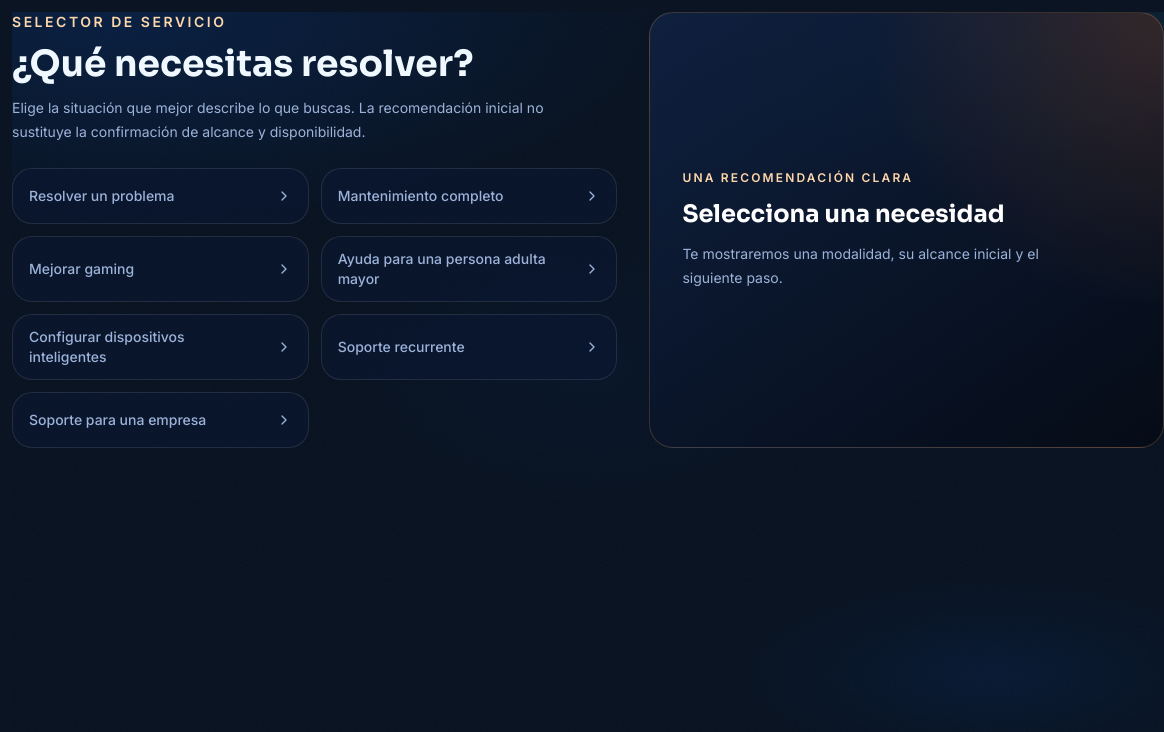
Scenario: Nova Assist service guidance › waits for device count before recommending a recurring plan
The width and height of the screenshot is (1164, 732).
Click the button "Soporte recurrente" at (401, 346), box [321, 314, 617, 380]
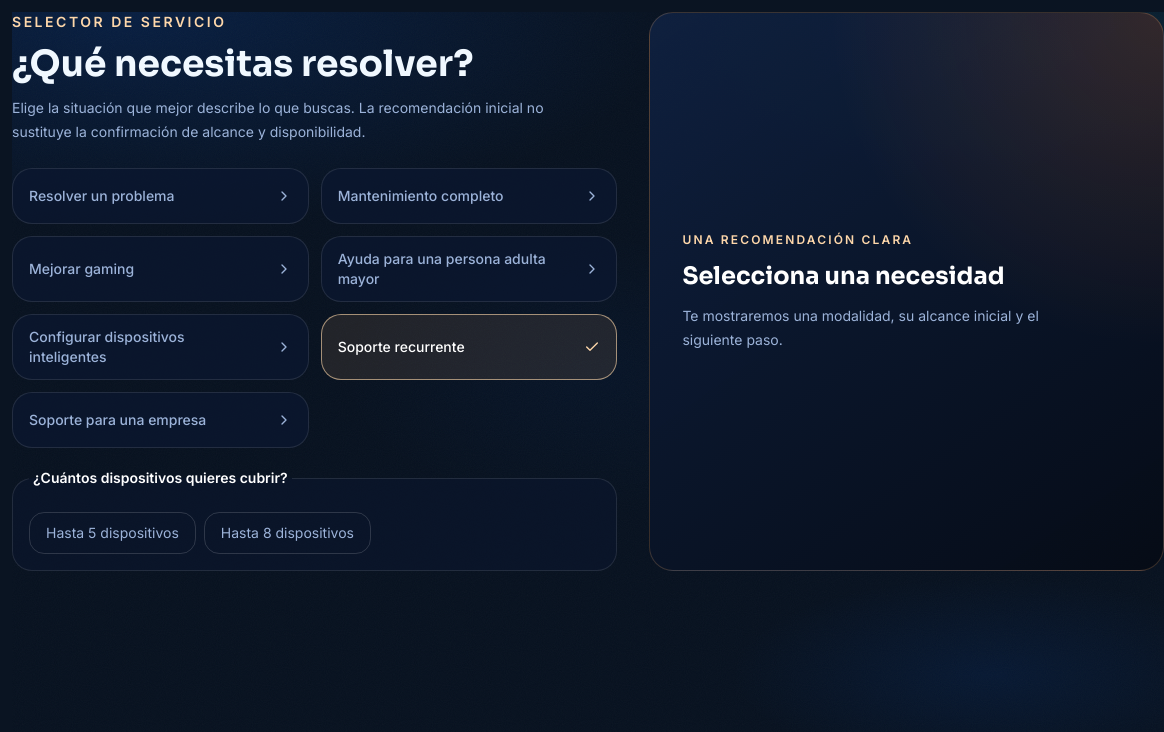
Click the button "Hasta 8 dispositivos" at (287, 533), box [204, 512, 371, 554]
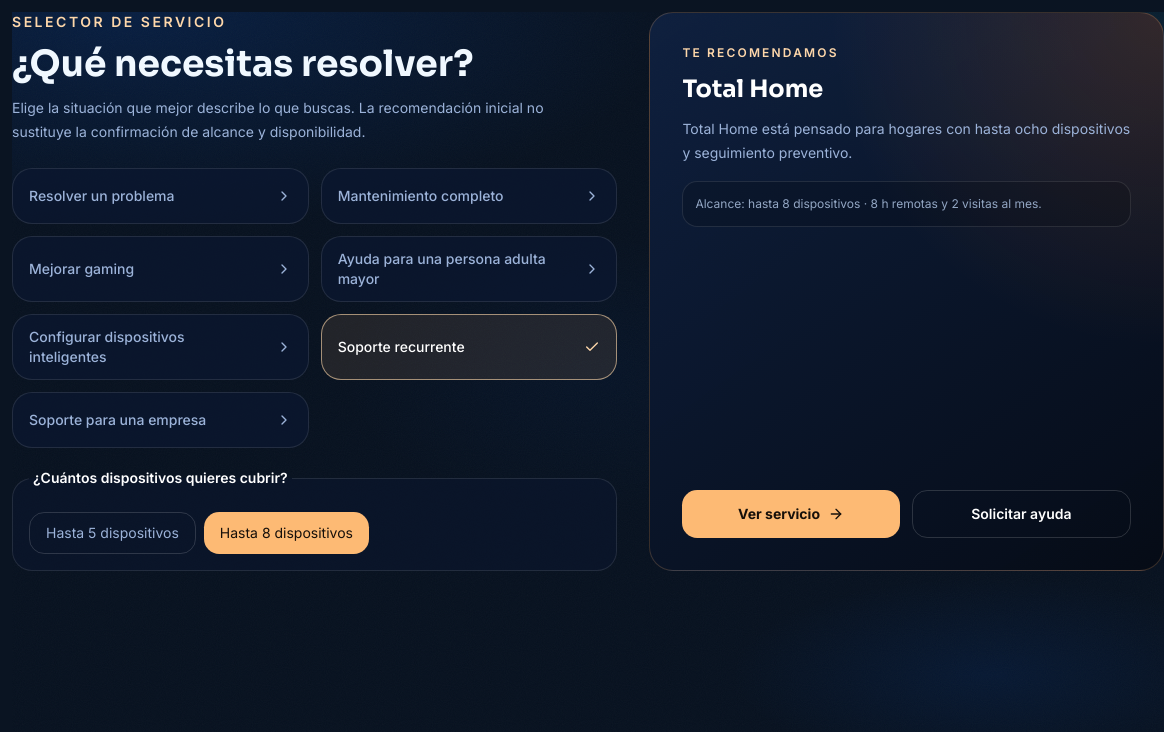
Now the heading "Total Home" is shown, box [682, 74, 823, 104]
